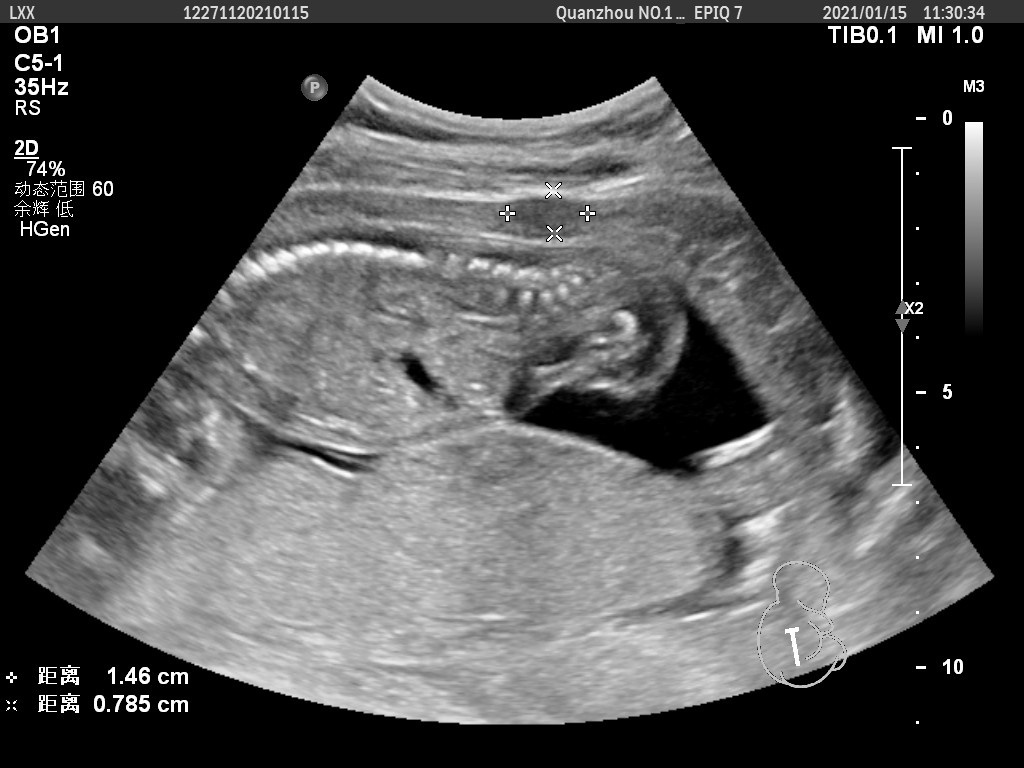肌瘤: (511, 200, 588, 235)
